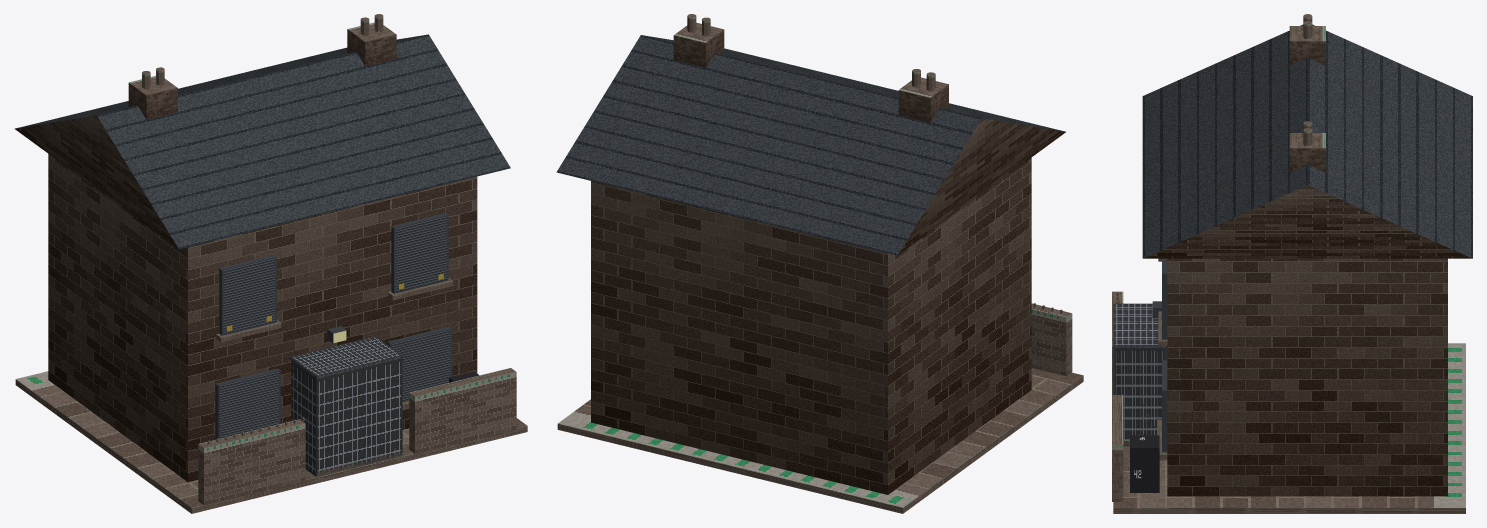
Rendered from building_croydon_traphouse_04.glb.
3 views of the same model, side by side, from view 1: azimuth 30°, elevation 25°; view 2: azimuth 150°, elevation 25°; view 3: azimuth 270°, elevation 25° (orthographic). The views are drawn at different scales.
Visible parts, largest first — view 1: Building_Croydon_Traphouse_04; view 2: Building_Croydon_Traphouse_04; view 3: Building_Croydon_Traphouse_04.
Part boxes in pixels (x1,y1,x2,y2): Building_Croydon_Traphouse_04: (14, 14, 527, 513); Building_Croydon_Traphouse_04: (556, 14, 1083, 513); Building_Croydon_Traphouse_04: (1112, 14, 1472, 513).
Bounding box in the file's own units: 8.6 × 8.75 × 7.98.
1 material, 1 textured.
